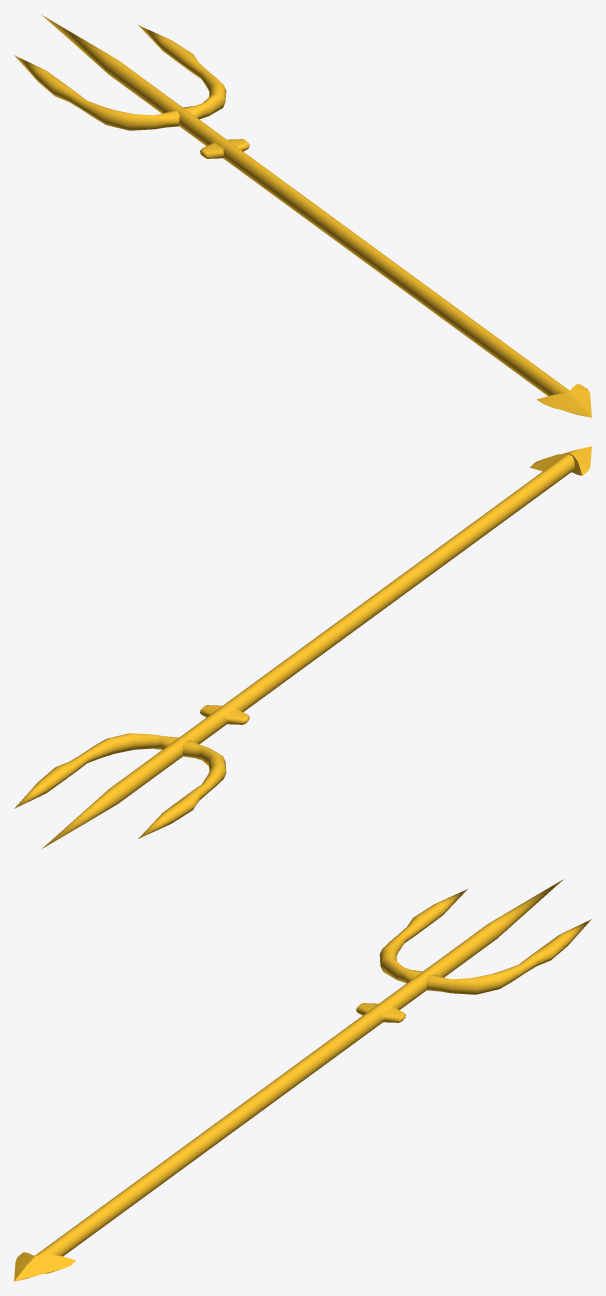
The model's file is knife4.fbx.
The picture shows the model from 3 angles, top to bottom: view 1: azimuth 30°, elevation 25°; view 2: azimuth 150°, elevation 25°; view 3: azimuth 330°, elevation 25°; orthographic projection.
Parts seen in each view (by area): view 1: knife4, knife4.001, knife4.002; view 2: knife4, knife4.001, knife4.002; view 3: knife4, knife4.001, knife4.002.
Boxes of the visible parts, bbox=[...] form: knife4: bbox=[41, 14, 569, 396]; knife4.001: bbox=[14, 25, 226, 130]; knife4.002: bbox=[536, 384, 591, 417]; knife4: bbox=[41, 455, 574, 849]; knife4.001: bbox=[14, 733, 226, 838]; knife4.002: bbox=[530, 446, 591, 475]; knife4: bbox=[35, 878, 564, 1256]; knife4.001: bbox=[379, 889, 591, 994]; knife4.002: bbox=[14, 1252, 75, 1281].
Size of the model in its own units: 110 by 13.97 by 737.
